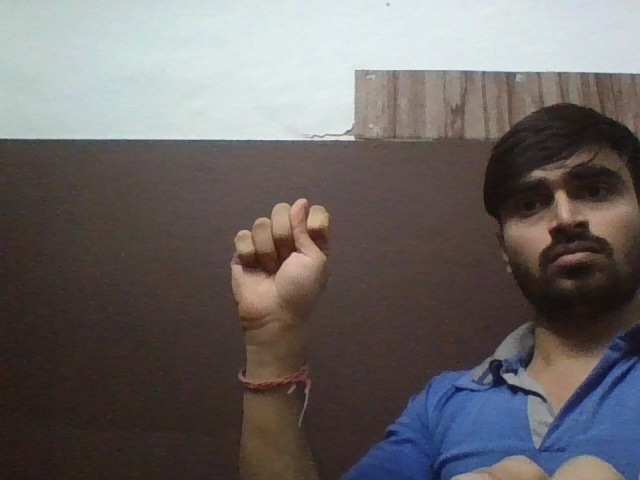T: (222, 189, 346, 331)
